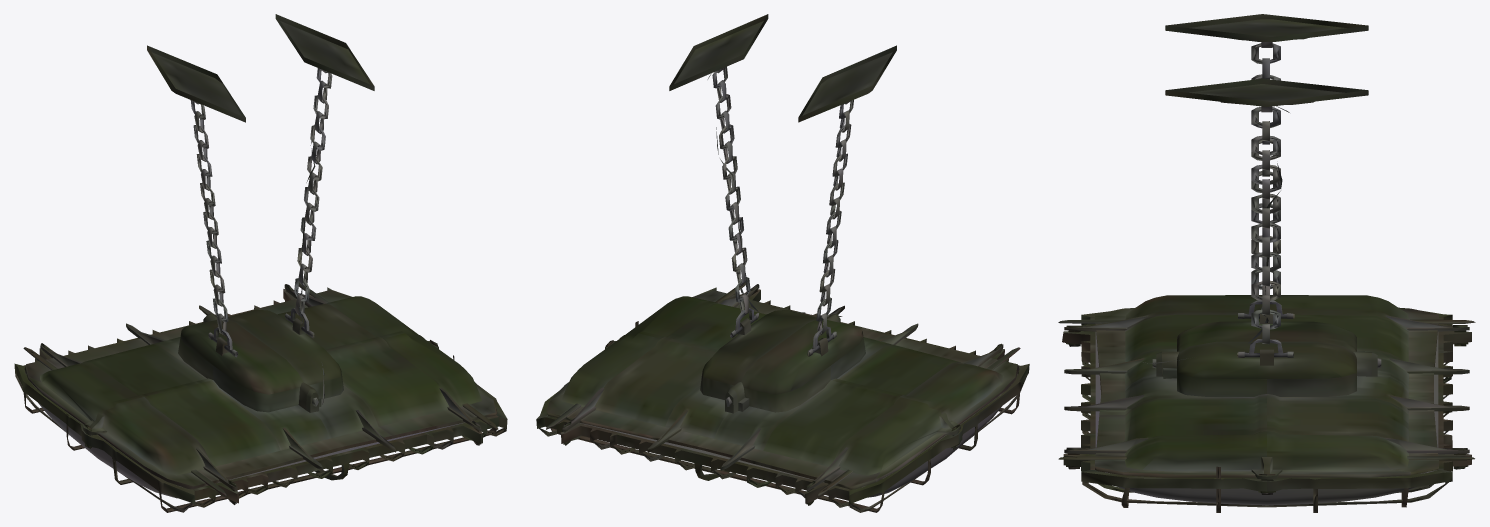
File: ph-caged-hanging-light.glb
The picture shows the model from 3 angles, left to right: view 1: azimuth 30°, elevation 25°; view 2: azimuth 150°, elevation 25°; view 3: azimuth 270°, elevation 25°; orthographic projection. The views are drawn at different scales.
Visible parts, largest first — view 1: caged_hanging_light; view 2: caged_hanging_light; view 3: caged_hanging_light.
Part boxes in pixels (box(x1,y1,x2,y2)): caged_hanging_light: box(14, 14, 507, 512); caged_hanging_light: box(536, 14, 1029, 512); caged_hanging_light: box(1058, 14, 1475, 512).
Bounding box in the file's own units: 1 × 1 × 1.
1 material, 1 textured.
